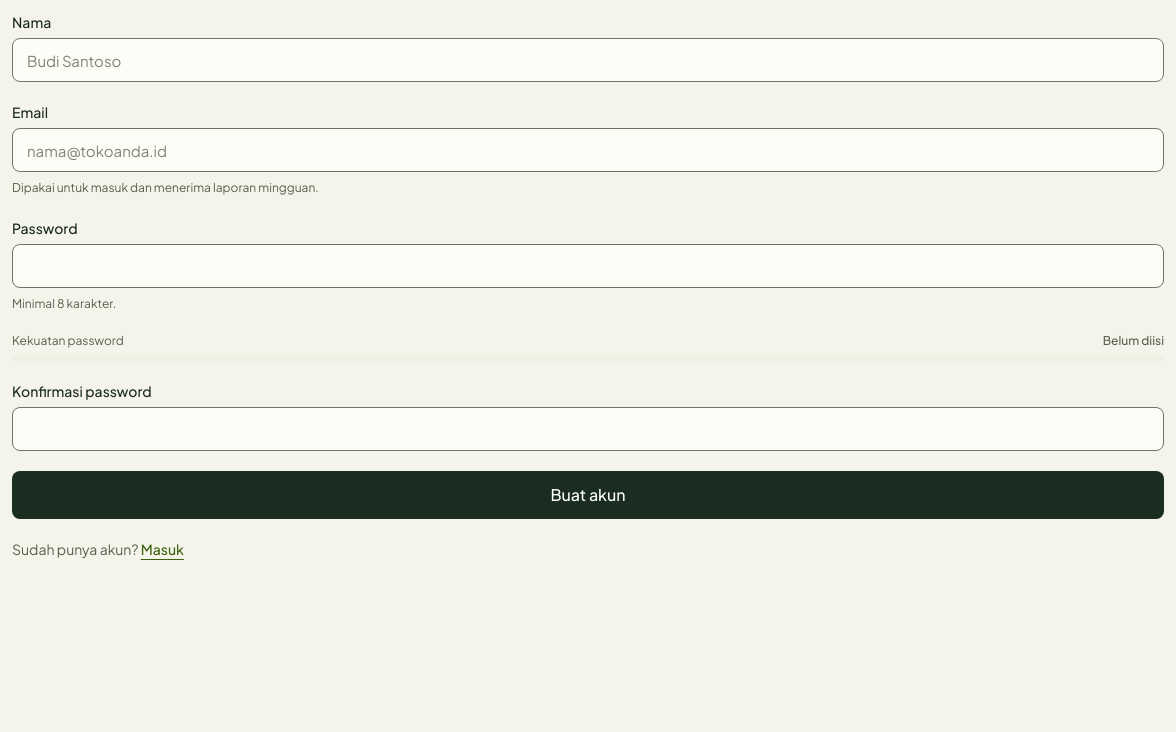
Scenario: RegisterForm: detail yang tidak bisa dipetakan tetap ditampilkan › menampilkan `property role should not exist` di level form
Click the button "Buat akun".
click(588, 495)  # box x1=12 y1=471 x2=1164 y2=519
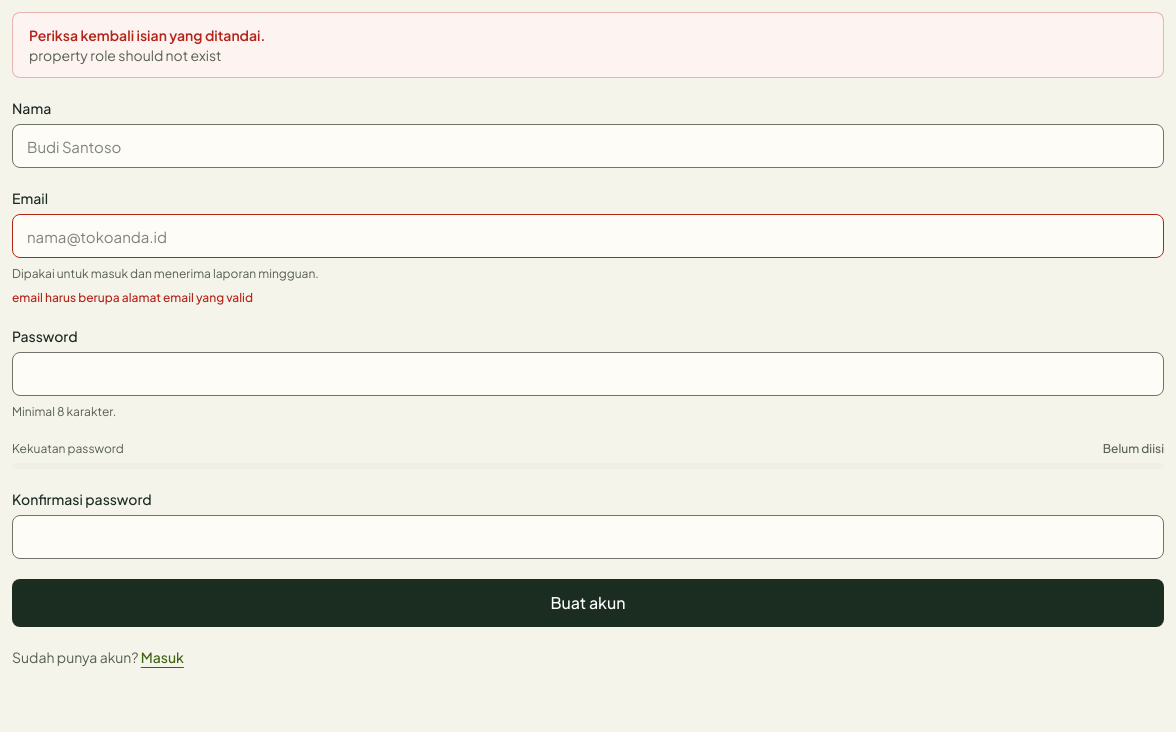
Result: the text "property role should not exist" is shown at x1=29 y1=46 x2=222 y2=64
Result: the text "email harus berupa alamat email yang valid" is shown at x1=12 y1=290 x2=253 y2=304
